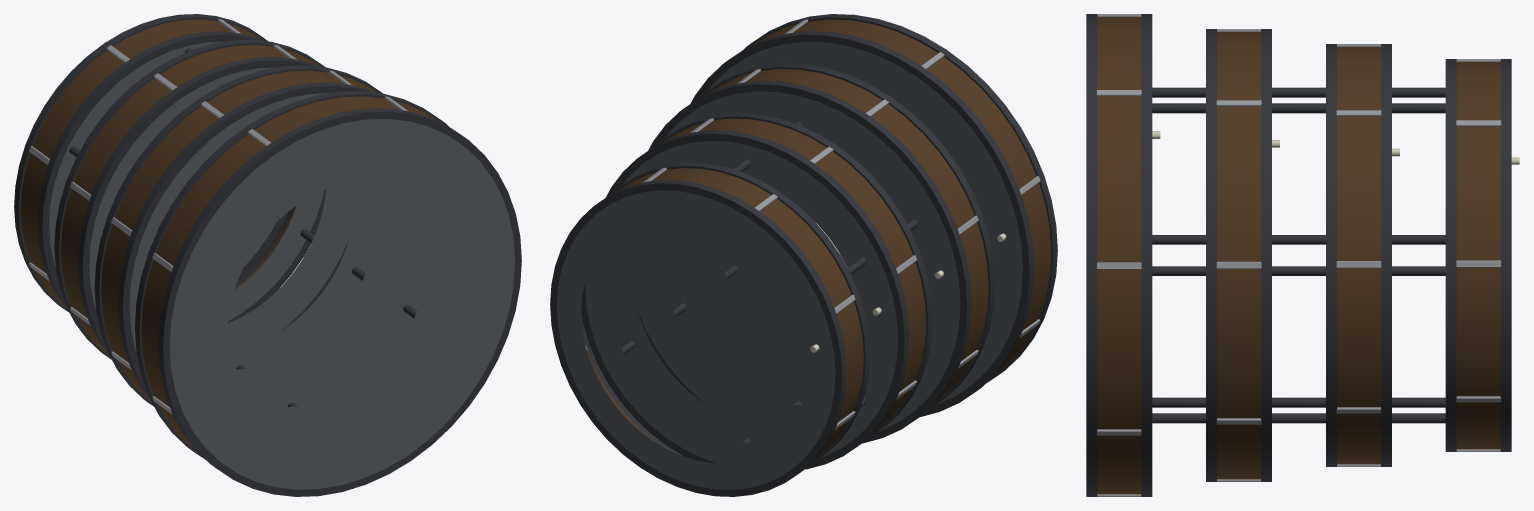
File: n1_coil_stack.obj
The picture shows the model from 3 angles, left to right: view 1: azimuth 30°, elevation 25°; view 2: azimuth 150°, elevation 25°; view 3: azimuth 270°, elevation 25°; orthographic projection. The views are drawn at different scales.
Parts seen in each view (by area): view 1: n1_coil_stack; view 2: n1_coil_stack; view 3: n1_coil_stack.
Part boxes in pixels (<box>): n1_coil_stack: <box>14,14,521,496</box>; n1_coil_stack: <box>550,14,1057,496</box>; n1_coil_stack: <box>1086,14,1519,496</box>.
Bounding box in the file's own units: 3.39 × 3.39 × 3.04.
